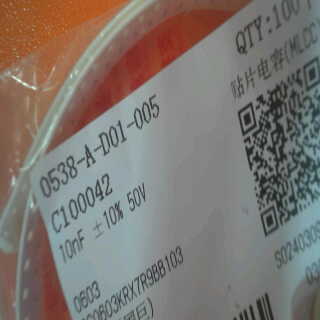10nF: (56, 226, 90, 262)
